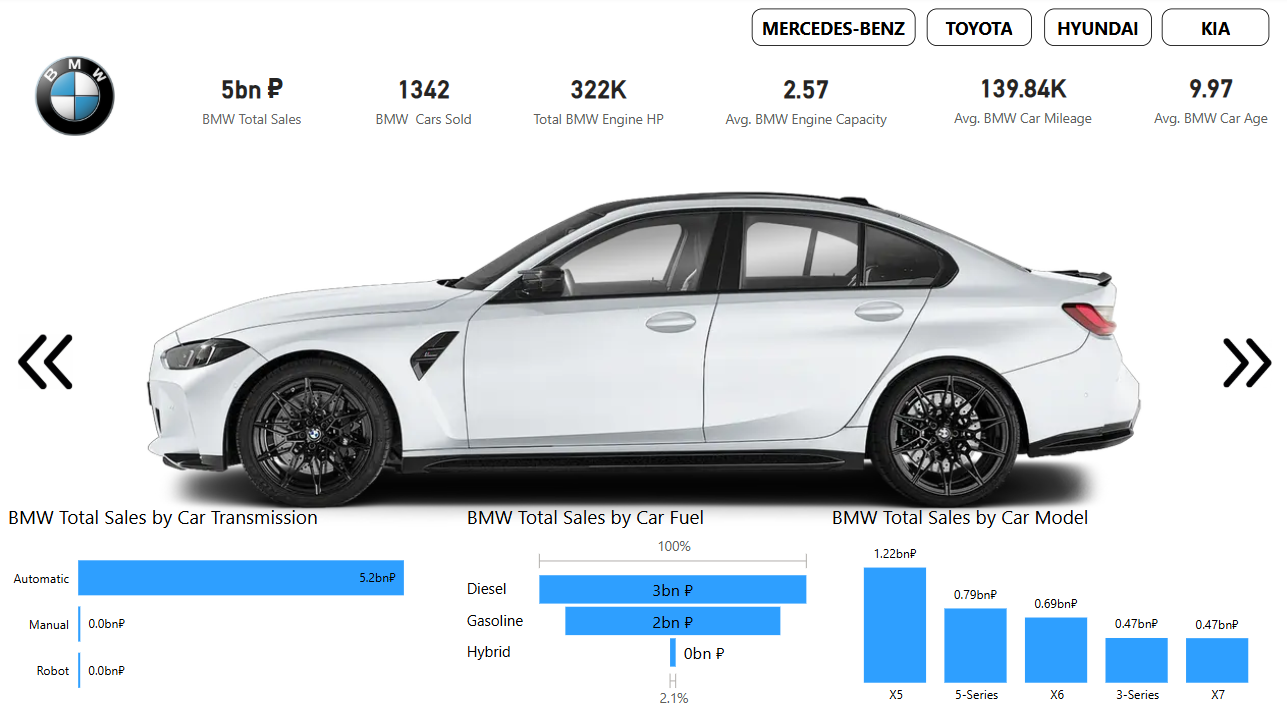

The page's visual inventory and layout, read from the dashboard file:
{"tool":"powerbi","page":{"name":"BMW","canvas":[1280,720],"ordinal":1},"visuals":[{"type":"card","fields":{"Values":["Sum(car_data.Car Price)"]},"box":[187.7,67,132.5,63.8],"z":0},{"type":"card","fields":{"Values":["Sum(car_data.Car Engine HP)"]},"box":[524.5,64.5,141.1,68.7],"z":1000},{"type":"card","fields":{"Values":["car_data.Avg. Car Engine Capacity"]},"box":[707,64.5,182.8,68.7],"z":2000},{"type":"card","fields":{"Values":["car_data.Average Car Age"]},"box":[1132.1,65.3,126.2,67.2],"z":3000},{"type":"barChart","fields":{"Category":["car_data.Car Transmission"],"Y":["Sum(car_data.Car Price)"]},"box":[9.8,498.2,438,206.1],"z":4000},{"type":"columnChart","fields":{"Category":["car_data.Car Model"],"Y":["Sum(car_data.Car Price)"]},"box":[818.4,498.2,452.8,206.1],"z":5000},{"type":"funnel","fields":{"Category":["car_data.Car Fuel"],"Y":["Sum(car_data.Car Price)"]},"box":[460.1,498.2,348.5,206.1],"z":6000},{"type":"card","fields":{"Values":["car_data.Avg. Car Mileage"]},"box":[931.2,65.1,159.5,67.5],"z":7000},{"type":"card","fields":{"Values":["CountNonNull(car_data.Car Brand)"]},"box":[361.6,65.8,121.5,66.3],"z":8000},{"type":"image","box":[9.6,53.5,141.3,87.8],"z":9000},{"type":"shape","box":[916.6,12.3,102.9,37],"z":10000},{"type":"shape","box":[1031.9,12.3,105.7,37],"z":11000},{"type":"shape","box":[1147.2,12.3,105.7,37],"z":12000},{"type":"shape","box":[745.1,12.3,160.5,37],"z":13000},{"type":"image","box":[19.2,325.2,63.1,68.6],"z":14000},{"type":"image","box":[1191.4,331.3,79.8,57.7],"z":15000}]}

Visuals, with their boxes in screenshot pixels (x1, y1, x2, y2), scaled from the page's 1280x720 canvas onto the 1287x720 screenshot:
card - Sum(car_data.Car Price): bbox=(189, 67, 322, 131)
card - Sum(car_data.Car Engine HP): bbox=(527, 64, 669, 133)
card - car_data.Avg. Car Engine Capacity: bbox=(711, 64, 895, 133)
card - car_data.Average Car Age: bbox=(1138, 65, 1265, 132)
barChart - car_data.Car Transmission x Sum(car_data.Car Price): bbox=(10, 498, 450, 704)
columnChart - car_data.Car Model x Sum(car_data.Car Price): bbox=(823, 498, 1278, 704)
funnel - car_data.Car Fuel x Sum(car_data.Car Price): bbox=(463, 498, 813, 704)
card - car_data.Avg. Car Mileage: bbox=(936, 65, 1097, 133)
card - CountNonNull(car_data.Car Brand): bbox=(364, 66, 486, 132)
image: bbox=(10, 54, 152, 141)
shape: bbox=(922, 12, 1025, 49)
shape: bbox=(1038, 12, 1144, 49)
shape: bbox=(1153, 12, 1260, 49)
shape: bbox=(749, 12, 911, 49)
image: bbox=(19, 325, 83, 394)
image: bbox=(1198, 331, 1278, 389)
